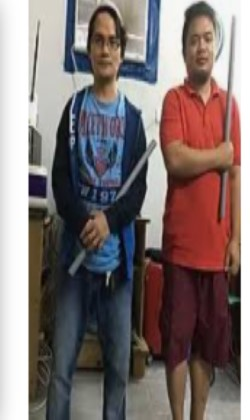baston_e: (70, 149, 153, 262), (205, 20, 241, 210)
baston_v: (57, 262, 80, 282), (229, 5, 243, 27), (214, 206, 232, 223), (147, 130, 159, 149)
